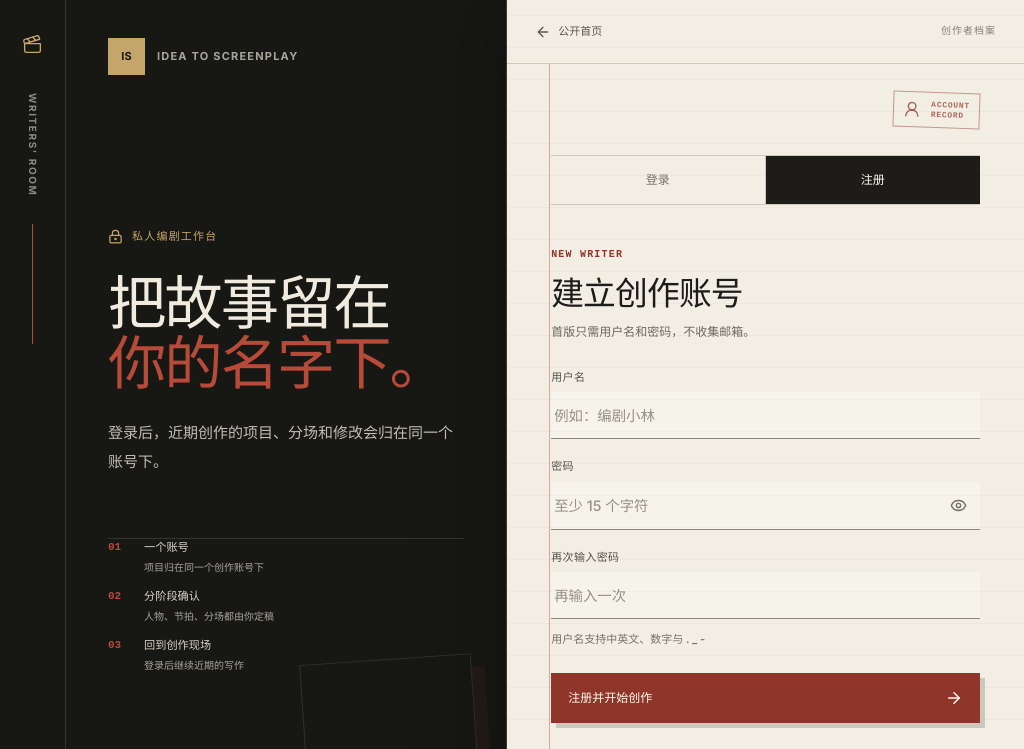
AuthPage › rejects unsupported username punctuation locally
Type "writer@email" into the field labelled "用户名". click: (766, 416)
box: 551,392 -> 980,439
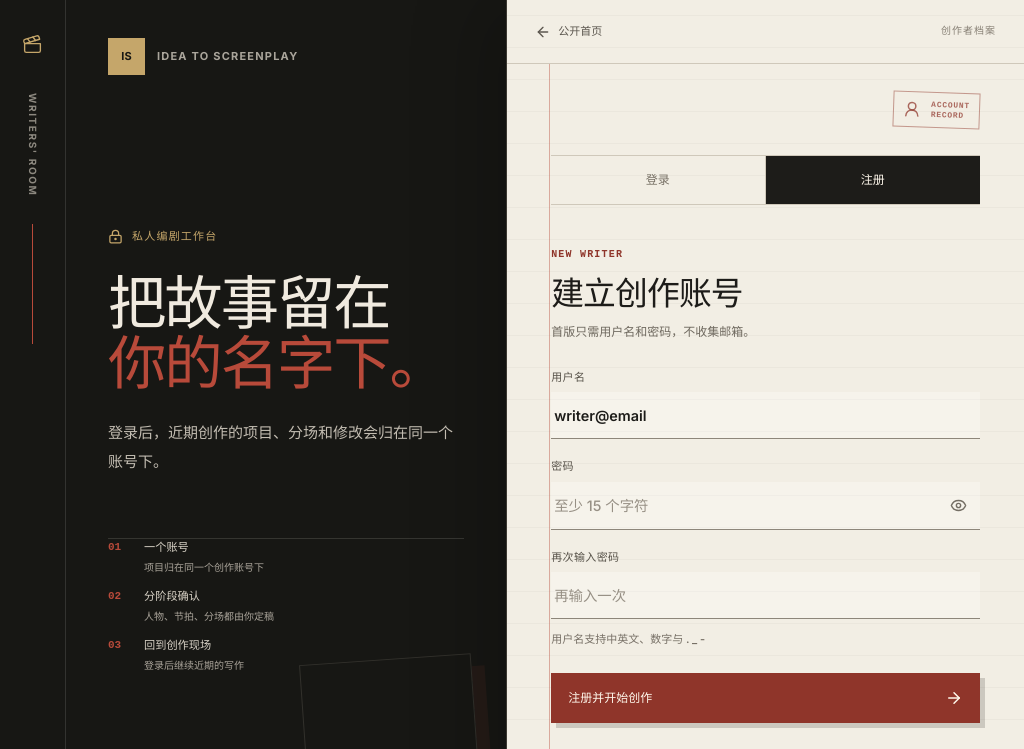
Type "story-room-2026" into the password field labelled "密码". click: (744, 505)
box: 551,482 -> 937,529
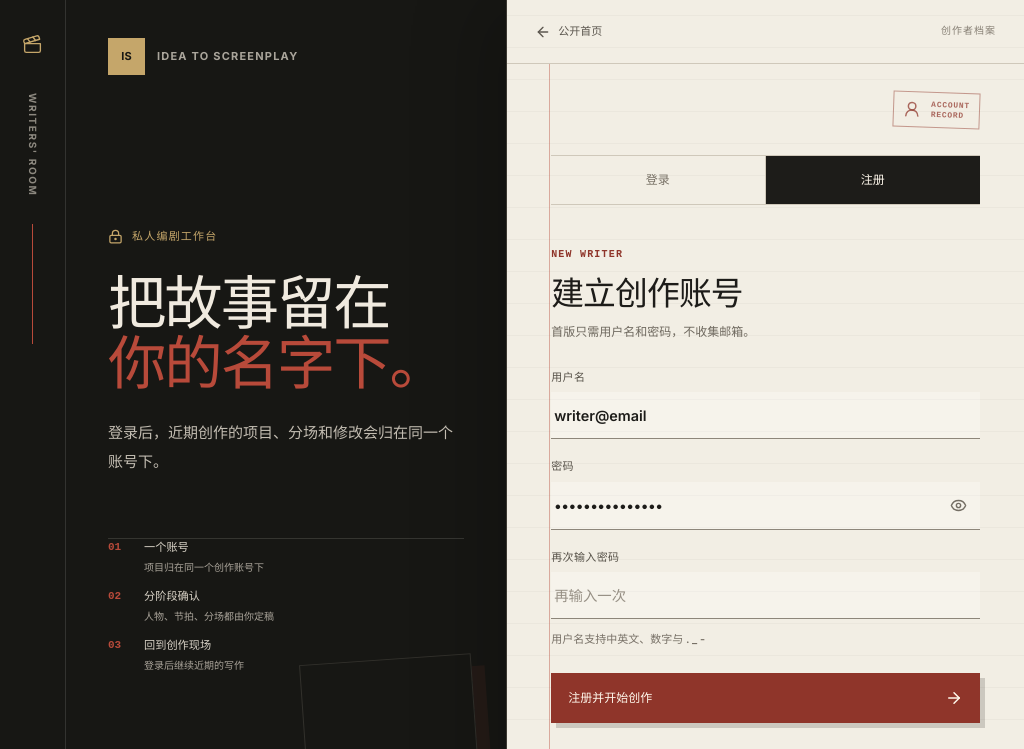
Type "story-room-2026" into the password field labelled "再次输入密码". click: (766, 596)
box: 551,572 -> 980,619
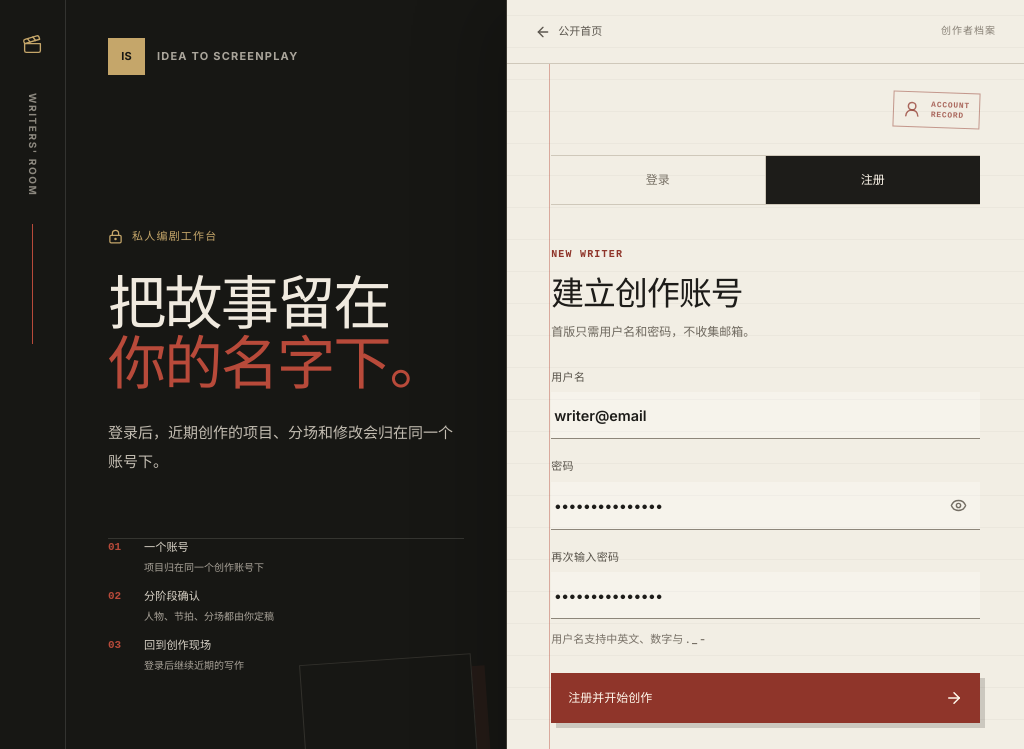
Click the button "注册并开始创作". click: (610, 697)
box: 551,673 -> 980,723
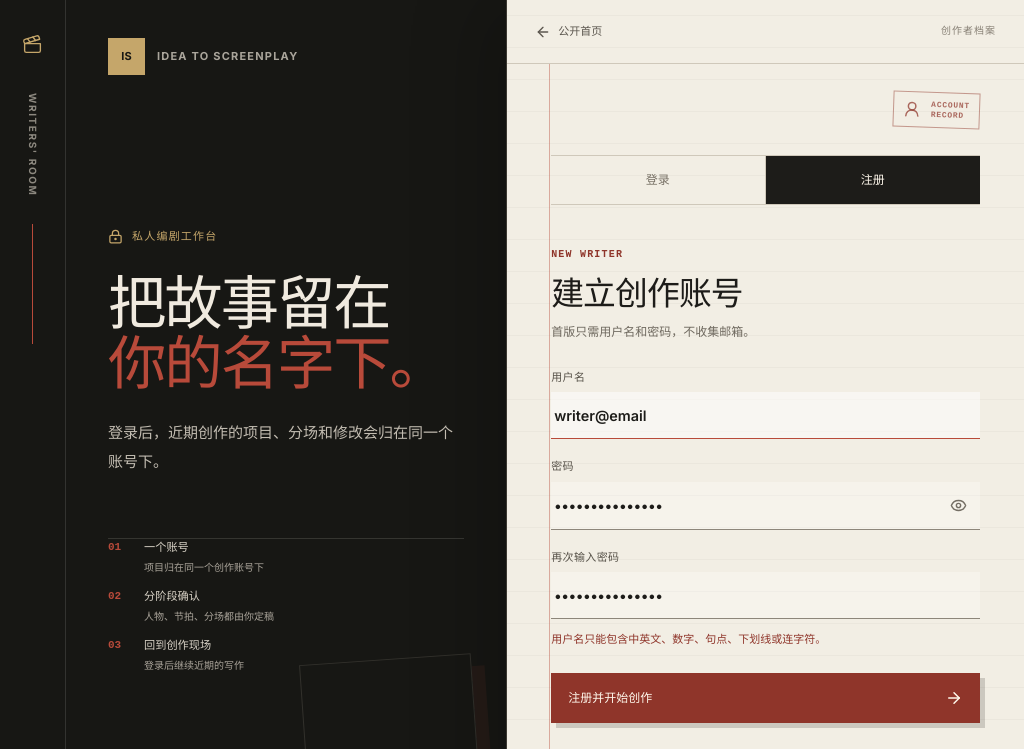
Expected: the message shows "用户名只能包含", 551,632 -> 826,646
